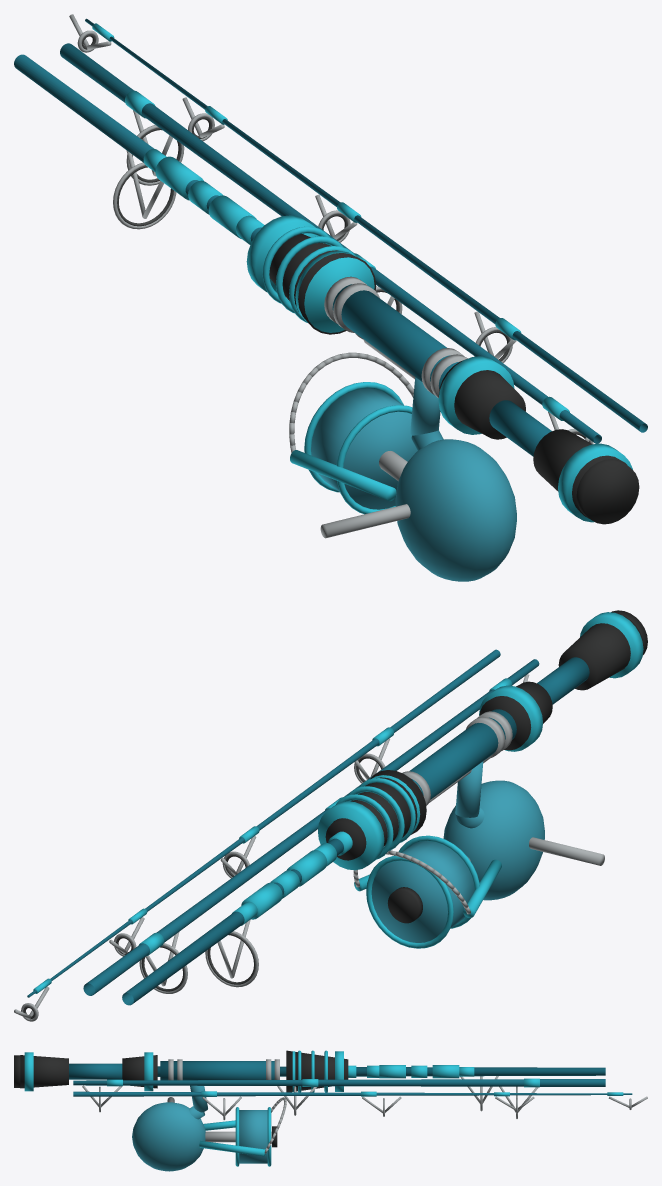
The model's file is kingfisher_folded.glb.
3 renders of one model, top to bottom at view 1: azimuth 30°, elevation 25°; view 2: azimuth 150°, elevation 25°; view 3: azimuth 270°, elevation 25°, orthographic. The views are drawn at different scales.
Parts seen in each view (by area): view 1: Folded rod; view 2: Folded rod; view 3: Folded rod.
Part boxes in pixels (x1,y1,x2,y2): Folded rod: (14,14,647,581); Folded rod: (14,610,647,1021); Folded rod: (14,1050,647,1171).
Size of the model in its own units: 0.1577 by 0.1456 by 0.7147.
